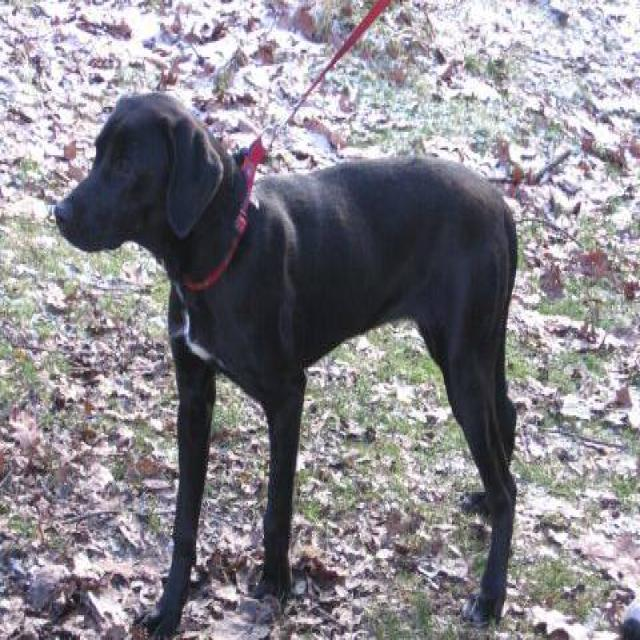Dog: (52, 82, 223, 273)
